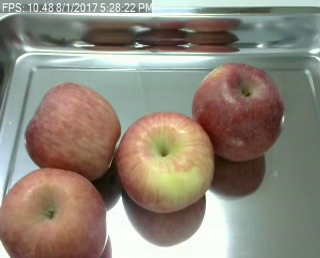Apple: (113, 108, 218, 214), (187, 59, 289, 163), (0, 166, 112, 258), (23, 80, 123, 182)
